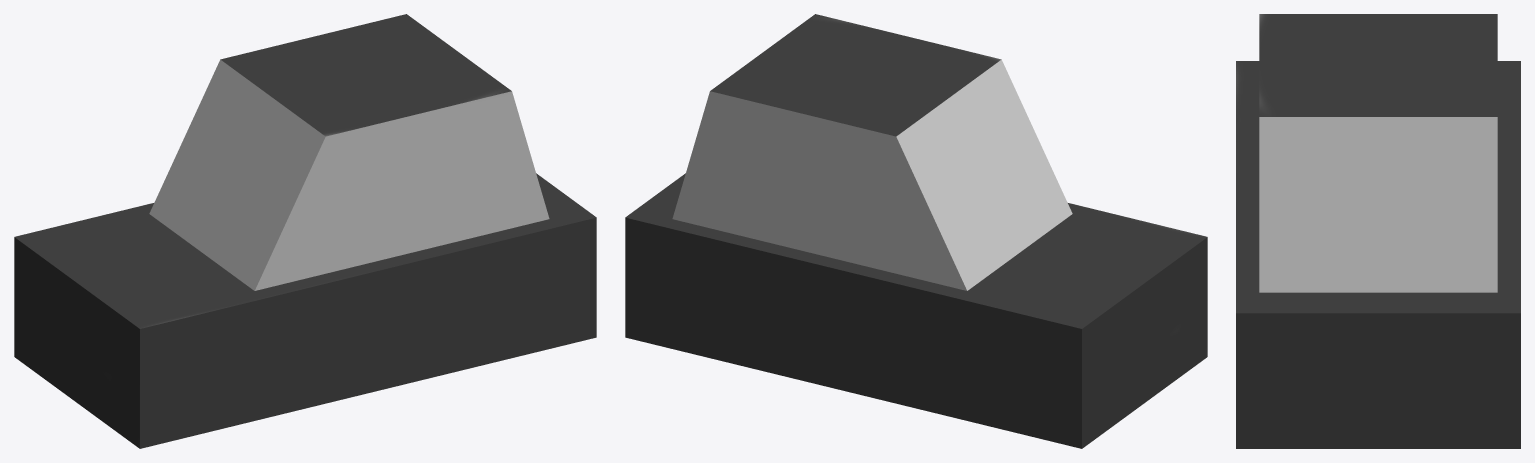
Rendered from car.glb.
3 views of the same model, side by side, from view 1: azimuth 30°, elevation 25°; view 2: azimuth 150°, elevation 25°; view 3: azimuth 270°, elevation 25° (orthographic). The views are drawn at different scales.
Parts seen in each view (by area): view 1: car; view 2: car; view 3: car.
Part boxes in pixels (left/top/right/bottom): car: left=14, top=14, right=596, bottom=448; car: left=625, top=14, right=1207, bottom=448; car: left=1236, top=14, right=1520, bottom=448.
Bounding box in the file's own units: 4.19 × 2.25 × 2.
1 material, 1 textured.
